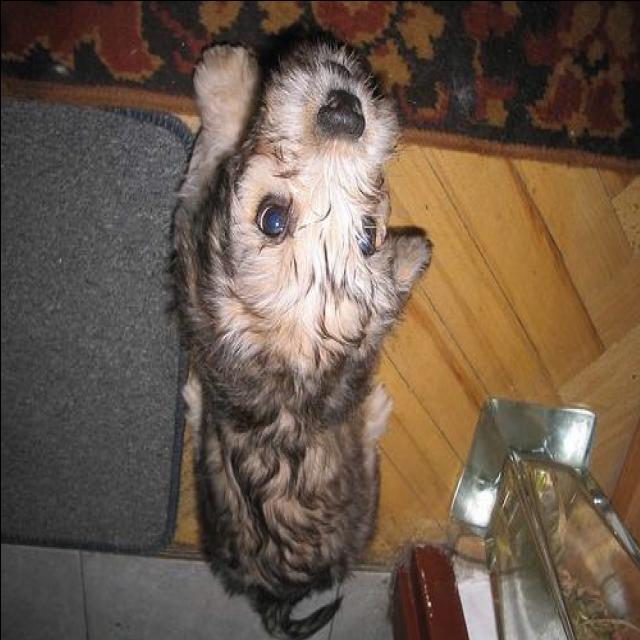dandie_dinmont: (164, 26, 433, 640)
